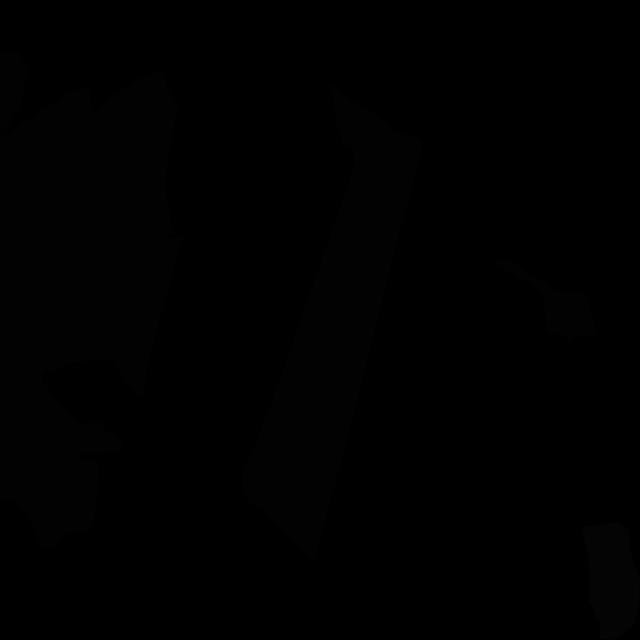cardboard: (242, 82, 422, 560), (0, 235, 183, 548), (0, 71, 178, 348), (495, 258, 598, 343), (0, 50, 29, 138)
soft_plastic: (581, 522, 640, 640)
